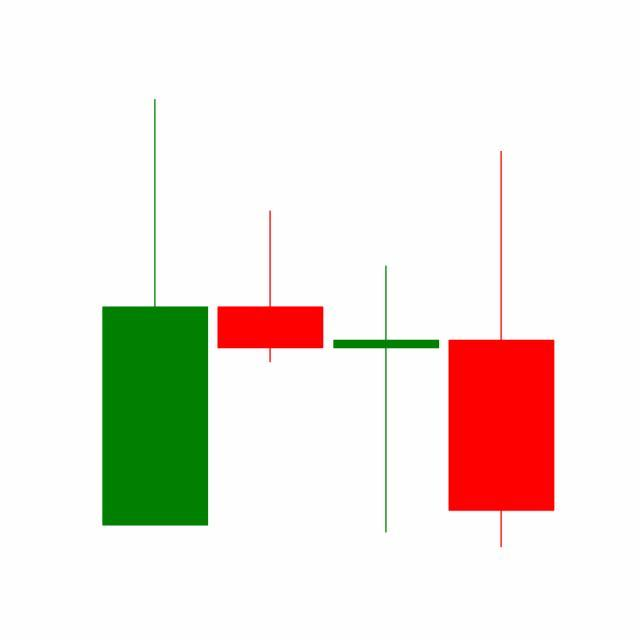Spinning Top: (329, 263, 445, 536)
